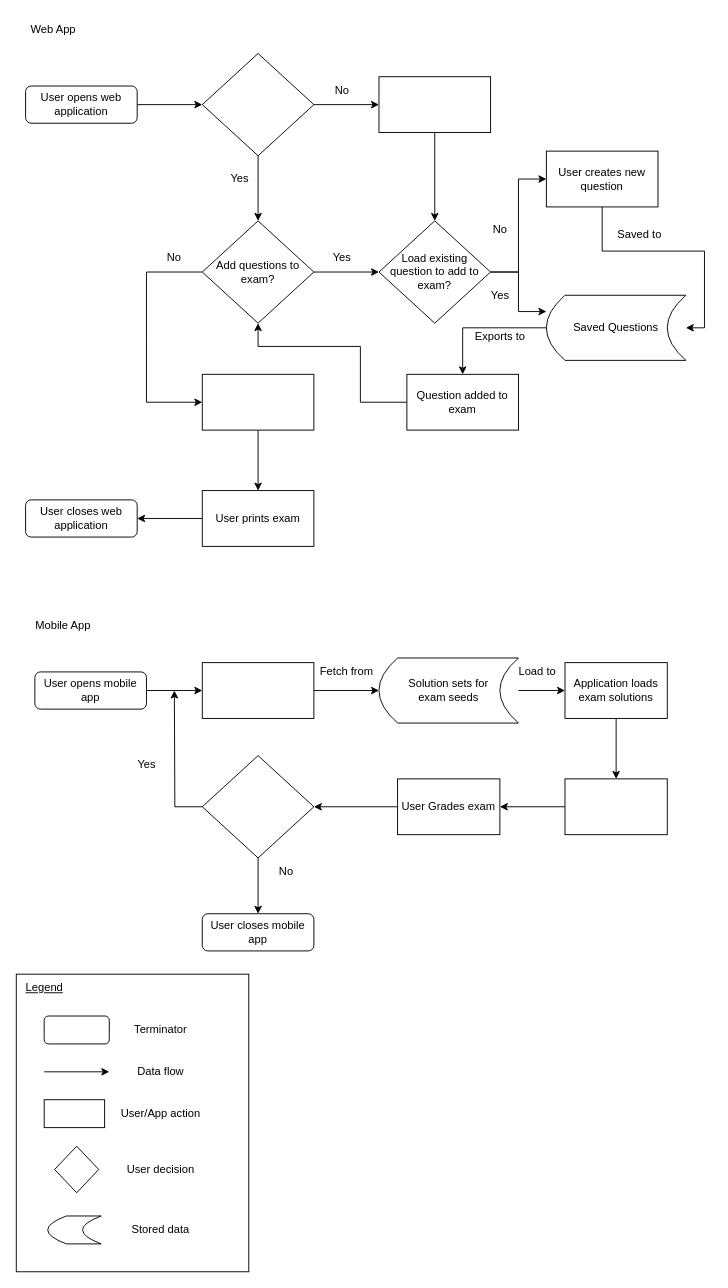
Some shapes in this 728 by 1288 pixel diagram are drawn without their labels. Here are the shapes that lost their labels. From the top down, the centre of each, then its label:
At [257,104]: "Load existing exam?".
At [434,104]: "New exam created".
At [257,401]: "Exam is finalized".
At [257,690]: "User scans barcode".
At [257,806]: "Grade another exam?".
At [615,806]: "User navigates solutions".
